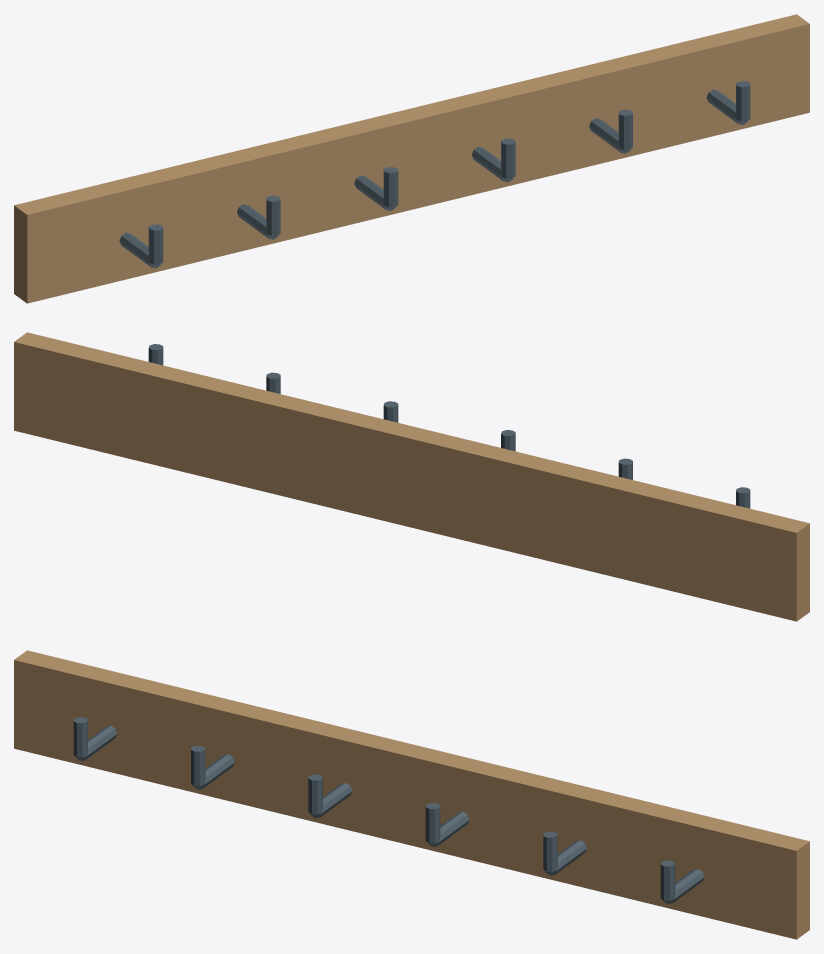
File: football-soccer-club-grounds-wall-hook-rail-618b9d6b.glb
3 renders of one model, top to bottom at view 1: azimuth 30°, elevation 25°; view 2: azimuth 150°, elevation 25°; view 3: azimuth 330°, elevation 25°, orthographic.
Parts seen in each view (by area): view 1: wall-hook-rail; view 2: wall-hook-rail; view 3: wall-hook-rail.
Boxes of the visible parts, x1,y1,x2,y2 form: wall-hook-rail: (14, 14, 809, 303); wall-hook-rail: (14, 332, 809, 621); wall-hook-rail: (14, 650, 809, 939).
Bounding box in the file's own units: 1.2 × 0.1299 × 0.1275.
